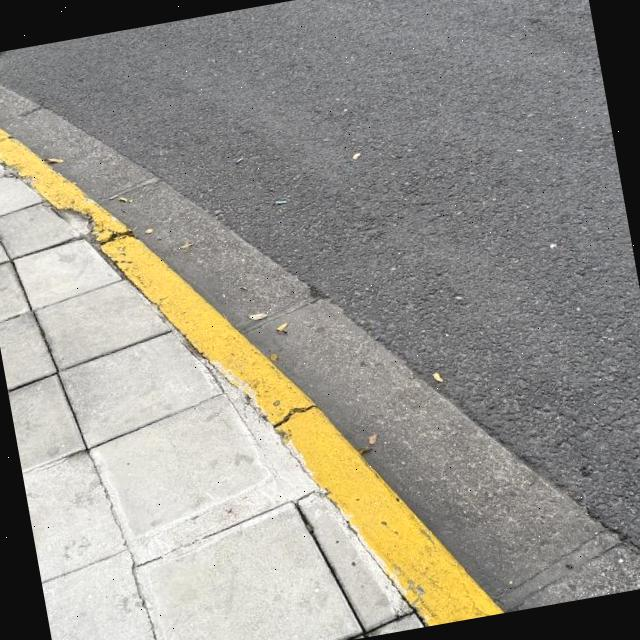curb: (0, 130, 501, 625)
